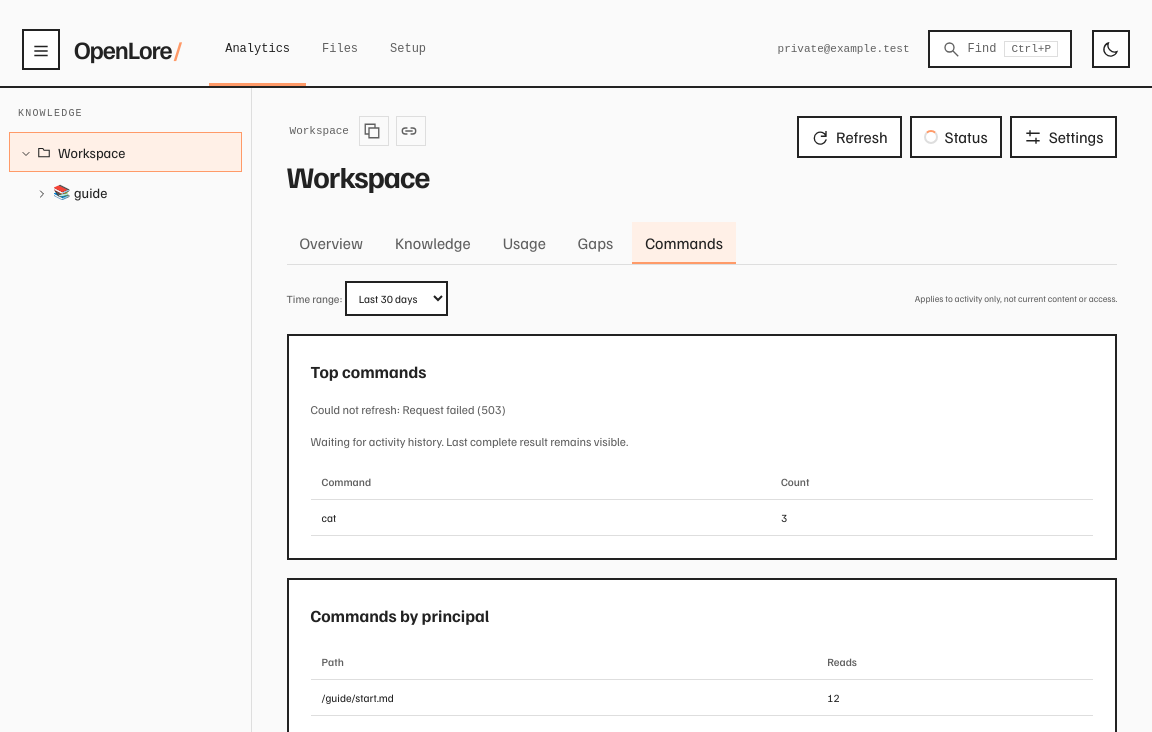
aggregations reset on new filters and report refresh errors
The width and height of the screenshot is (1152, 732).
Expected: the text "Could not refresh: Request failed (503)" is shown, [310,402,506,417]
Expected: the text "cat" is shown, [310,499,770,535]
Select "Last 7 days" in the dropdown. click: (396, 298)
box: [345,281,448,316]
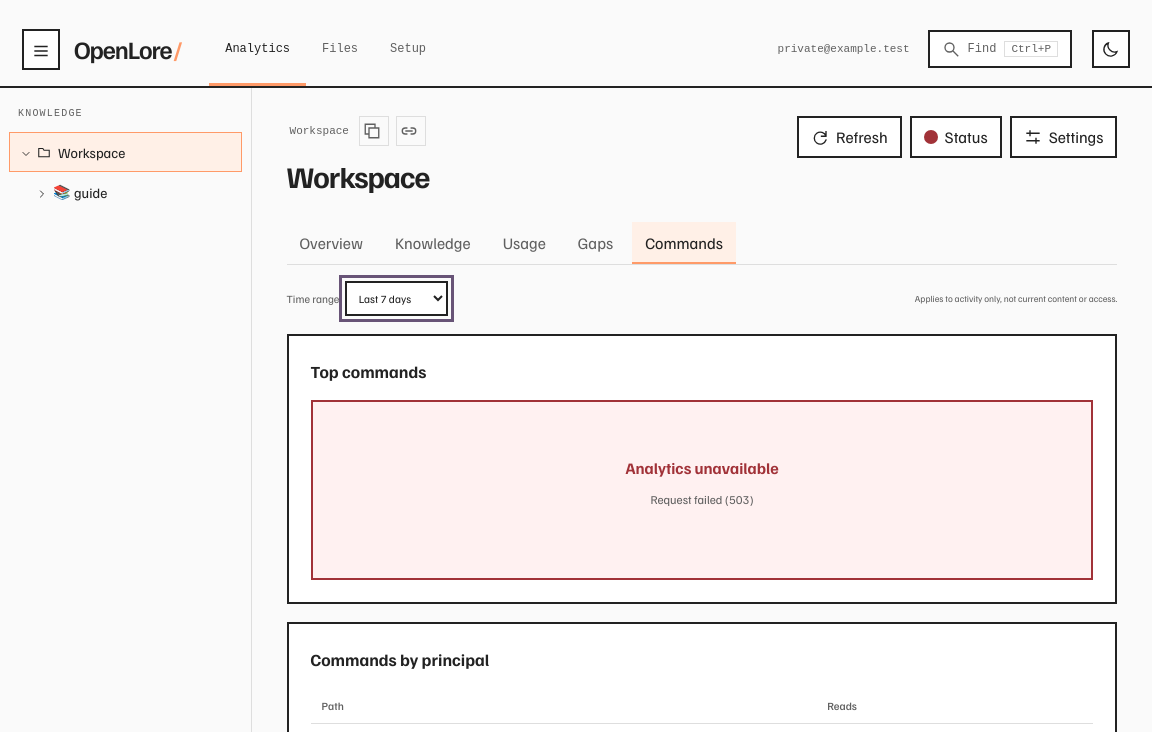
Expected: the text "Request failed (503)" is shown, [650,492,754,507]
Result: the text "cat" is gone
